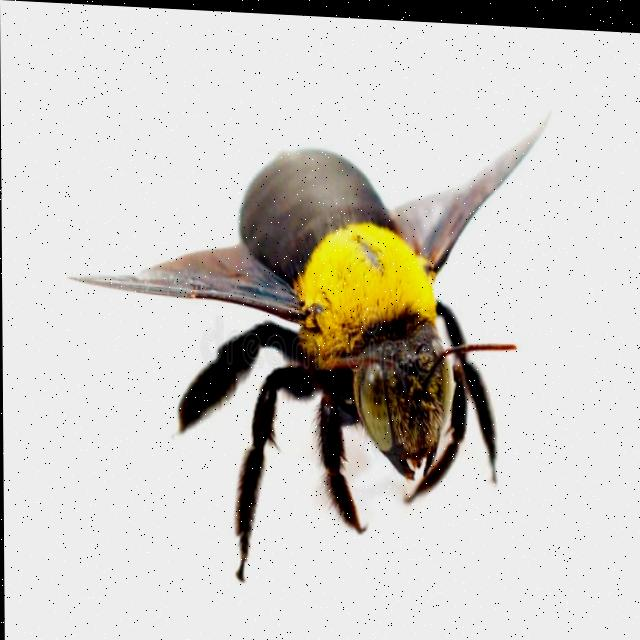Xylocopa: (58, 68, 573, 548)
